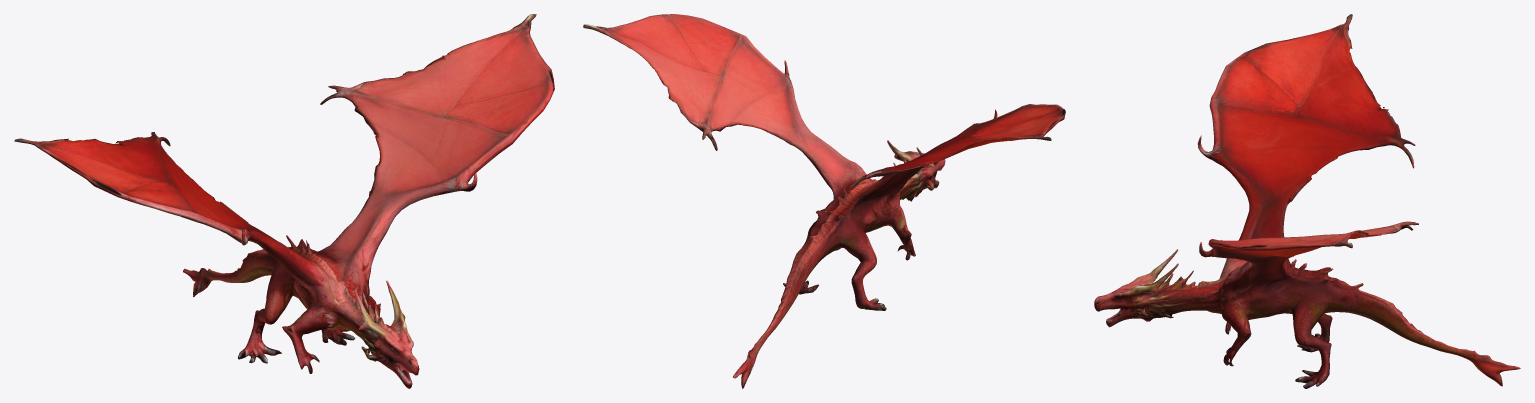
The model's file is dragon.glb.
The picture shows the model from 3 angles, left to right: view 1: azimuth 30°, elevation 25°; view 2: azimuth 150°, elevation 25°; view 3: azimuth 270°, elevation 25°; orthographic projection. The views are drawn at different scales.
Bounding box in the file's own units: 2.01 × 1.04 × 1.56.
Materials: 1 (1 with a texture image).
